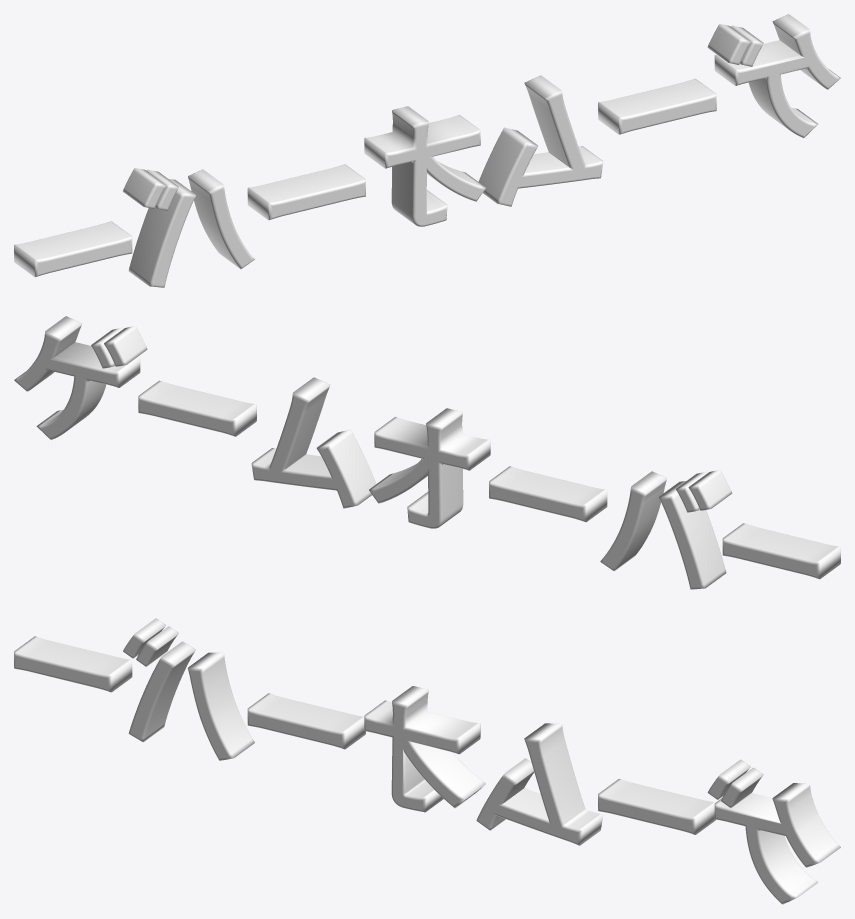
Rendered from gameover.obj.
3 views of the same model, one above another, from view 1: azimuth 30°, elevation 25°; view 2: azimuth 150°, elevation 25°; view 3: azimuth 330°, elevation 25° (orthographic).
Parts seen in each view (by area): view 1: テキスト.006; view 2: テキスト.006; view 3: テキスト.006.
Boxes of the visible parts, x1,y1,x2,y2 form: テキスト.006: (14,14,840,287); テキスト.006: (14,316,840,589); テキスト.006: (14,618,840,904).
Size of the model in its own units: 6.9 by 0.938 by 0.34.
Materials: 1 (1 with a texture image).
